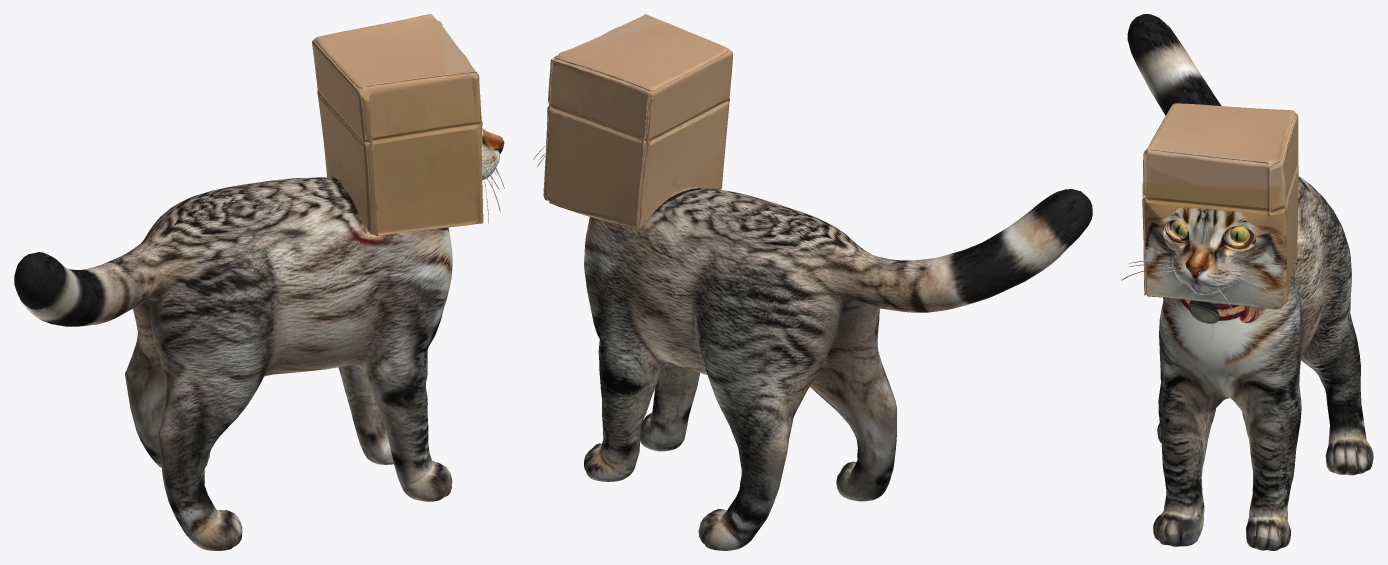
Rendered from anonymous-cat.glb.
3 views of the same model, side by side, from view 1: azimuth 30°, elevation 25°; view 2: azimuth 150°, elevation 25°; view 3: azimuth 270°, elevation 25° (orthographic). The views are drawn at different scales.
Visible parts, largest first — view 1: fit; view 2: fit; view 3: fit.
Boxes of the visible parts, bbox=[...] form: fit: bbox=[14, 14, 504, 550]; fit: bbox=[533, 14, 1092, 550]; fit: bbox=[1121, 14, 1373, 550].
Size of the model in its own units: 1.26 by 0.9997 by 0.5615.
Materials: 1 (1 with a texture image).
